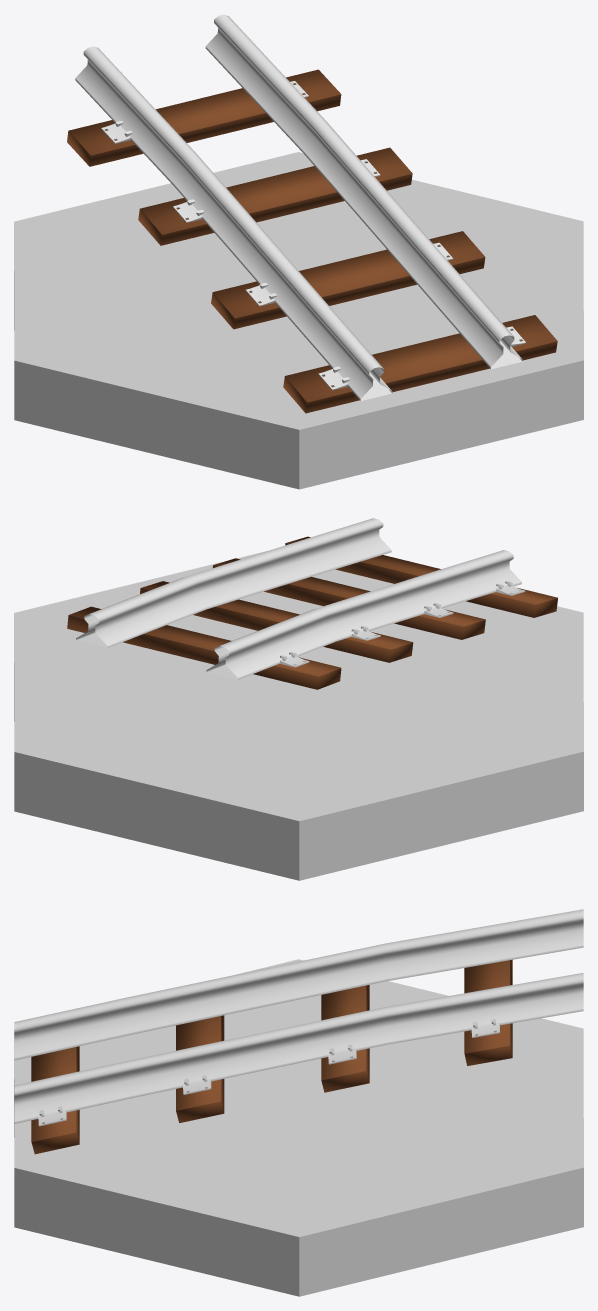
Rendered from trilho_inclinado.fbx.
The picture shows the model from 3 angles, top to bottom: view 1: azimuth 30°, elevation 25°; view 2: azimuth 150°, elevation 25°; view 3: azimuth 270°, elevation 25°; orthographic projection.
Parts seen in each view (by area): view 1: trilho_inclinado; view 2: trilho_inclinado; view 3: trilho_inclinado.
Part boxes in pixels (x1,y1,x2,y2): trilho_inclinado: (14, 14, 583, 489); trilho_inclinado: (14, 518, 583, 880); trilho_inclinado: (14, 909, 583, 1296).
Bounding box in the file's own units: 200 × 72.3 × 173.
